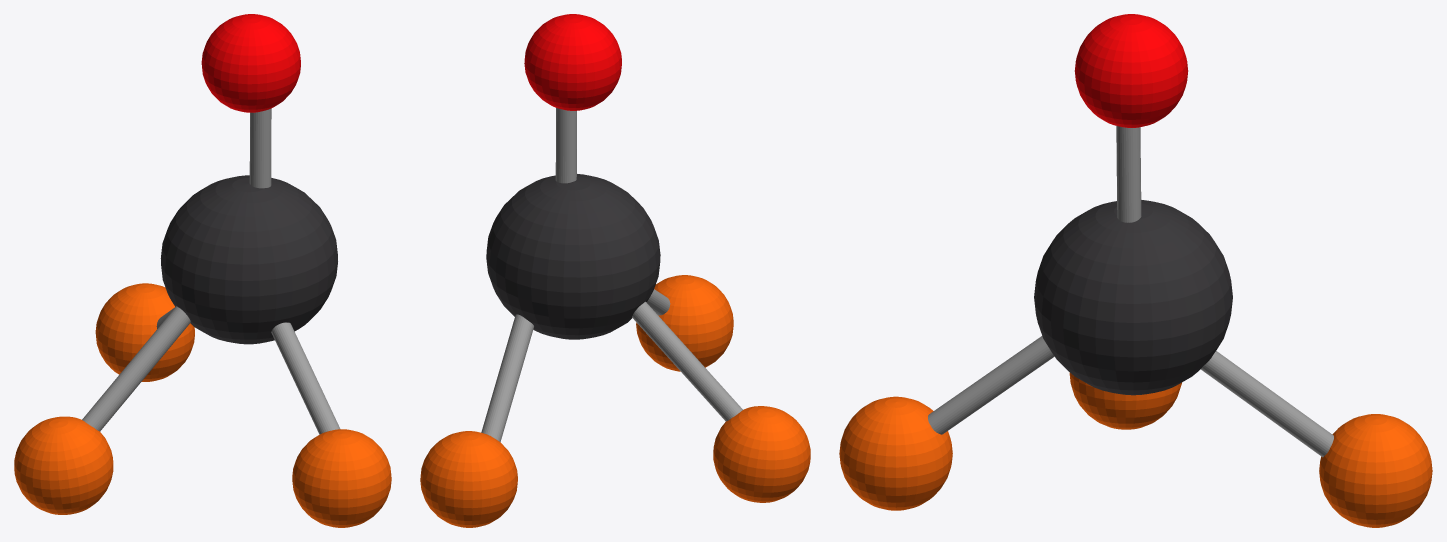
The model's file is cloroformo.gltf.
3 views of the same model, side by side, from view 1: azimuth 30°, elevation 25°; view 2: azimuth 150°, elevation 25°; view 3: azimuth 270°, elevation 25° (orthographic). The views are drawn at different scales.
Parts seen in each view (by area): view 1: Sphere, Sphere.002, Sphere.003, Sphere.001, Sphere.004, Cylinder.002, Cylinder, Cylinder.001; view 2: Sphere, Sphere.004, Sphere.001, Sphere.003, Sphere.002, Cylinder.002, Cylinder.004, Cylinder.001; view 3: Sphere, Sphere.003, Sphere.004, Sphere.002, Cylinder.004, Cylinder, Sphere.001, Cylinder.001.
Boxes of the visible parts, x1,y1,x2,y2 form: Sphere: [160, 175, 337, 344]; Sphere.002: [292, 429, 391, 527]; Sphere.003: [201, 14, 300, 112]; Sphere.001: [14, 416, 113, 514]; Sphere.004: [95, 283, 194, 381]; Cylinder.002: [82, 306, 190, 431]; Cylinder: [271, 322, 340, 434]; Cylinder.001: [249, 108, 271, 188]; Sphere: [486, 174, 660, 339]; Sphere.004: [420, 431, 517, 527]; Sphere.001: [713, 406, 810, 502]; Sphere.003: [524, 14, 621, 110]; Sphere.002: [636, 275, 733, 371]; Cylinder.002: [632, 301, 742, 421]; Cylinder.004: [481, 314, 533, 441]; Cylinder.001: [555, 108, 576, 183]; Sphere: [1034, 200, 1232, 395]; Sphere.003: [1074, 14, 1188, 127]; Sphere.004: [1319, 414, 1432, 527]; Sphere.002: [839, 396, 952, 510]; Cylinder.004: [1200, 351, 1333, 457]; Cylinder: [928, 336, 1054, 434]; Sphere.001: [1069, 372, 1181, 429]; Cylinder.001: [1116, 126, 1141, 222].
Size of the model in its own units: 9.28 by 12.71 by 13.35.
